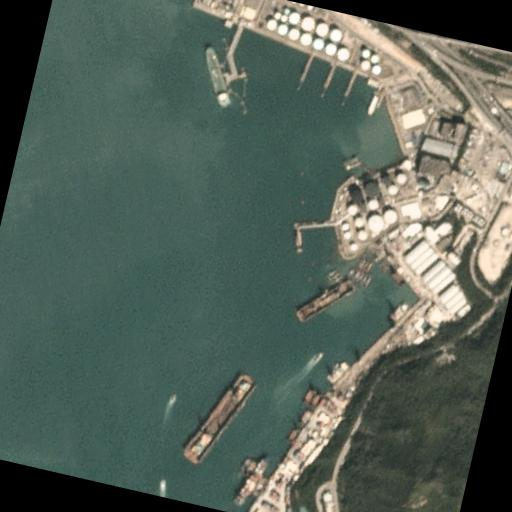ship: (180, 364, 260, 472), (294, 268, 360, 332), (191, 44, 242, 108), (342, 154, 360, 169), (312, 349, 326, 367), (167, 392, 178, 406), (325, 268, 337, 280), (328, 270, 340, 282), (333, 274, 342, 284)
